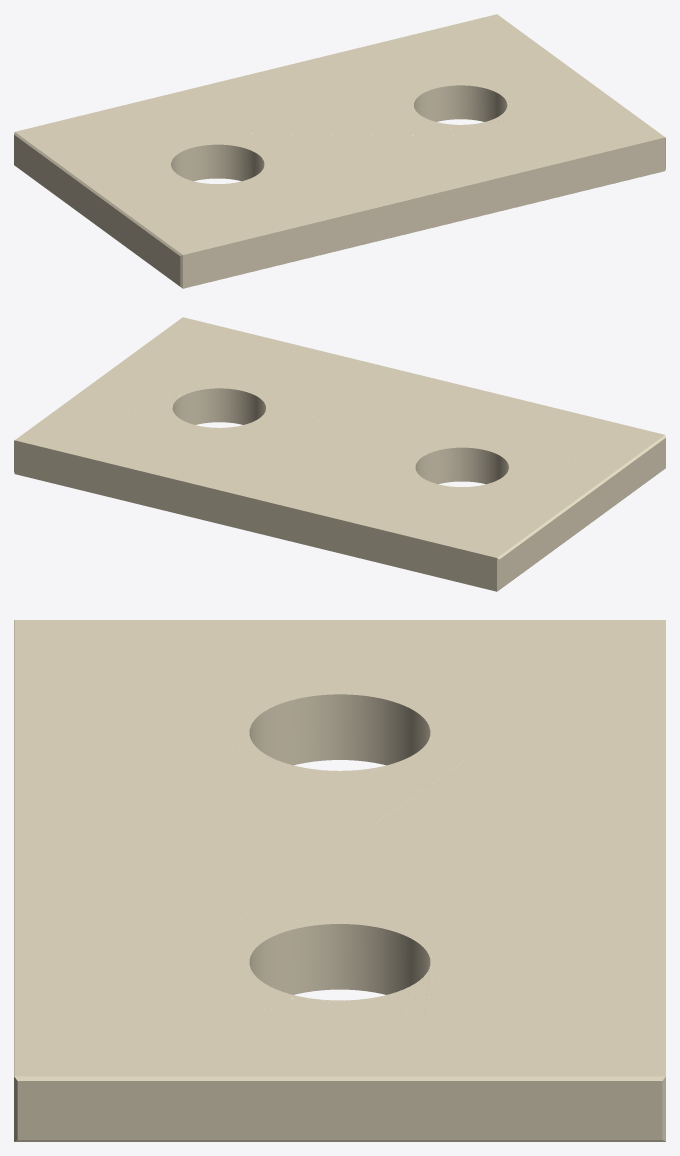
File: asinma-mtb-210-ii-top-wear-plate-02.glb
The picture shows the model from 3 angles, top to bottom: view 1: azimuth 30°, elevation 25°; view 2: azimuth 150°, elevation 25°; view 3: azimuth 270°, elevation 25°; orthographic projection. The views are drawn at different scales.
Parts seen in each view (by area): view 1: body; view 2: body; view 3: body.
Boxes of the visible parts, x1=… form: body: x1=14, y1=14, x2=665, y2=288; body: x1=14, y1=317, x2=665, y2=591; body: x1=14, y1=620, x2=665, y2=1141.
Bounding box in the file's own units: 0.3 × 0.02 × 0.18.
